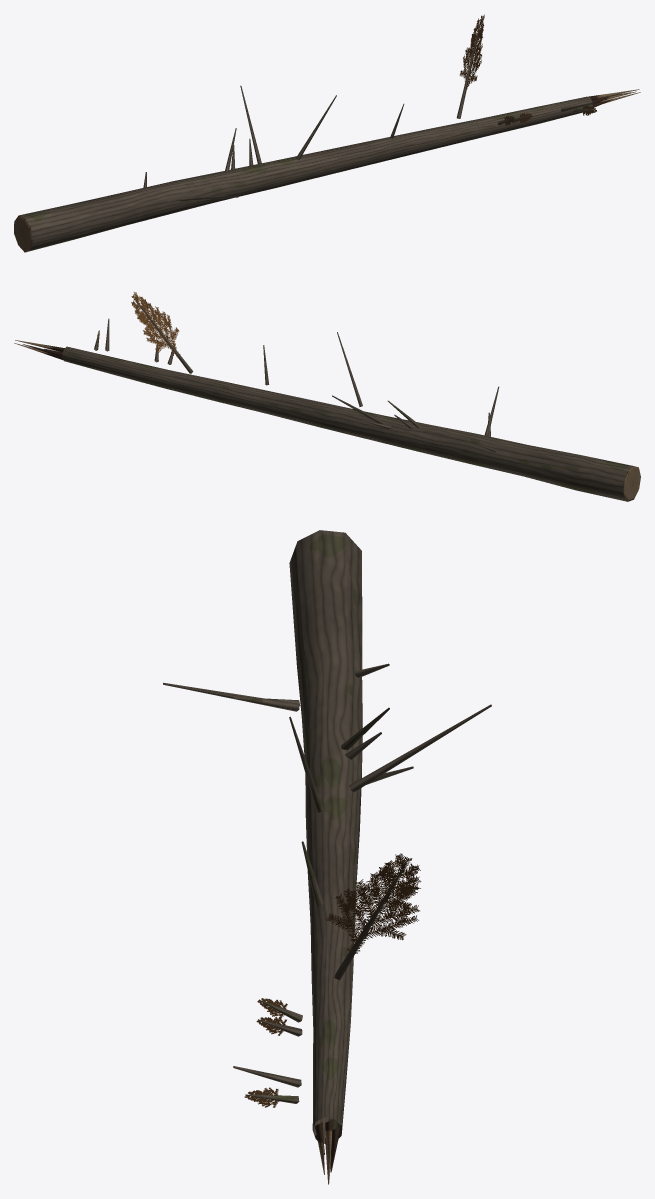
The model's file is S7U_FallenSpruce_A.fbx.
3 renders of one model, top to bottom at view 1: azimuth 30°, elevation 25°; view 2: azimuth 150°, elevation 25°; view 3: azimuth 270°, elevation 25°, orthographic. The views are drawn at different scales.
Visible parts, largest first — view 1: S7U_FallenSpruce_A; view 2: S7U_FallenSpruce_A; view 3: S7U_FallenSpruce_A.
Part boxes in pixels (box(x1,y1,x2,y2)): S7U_FallenSpruce_A: box(14, 14, 640, 252); S7U_FallenSpruce_A: box(14, 292, 640, 501); S7U_FallenSpruce_A: box(163, 530, 491, 1184).
Bounding box in the file's own units: 9.84 × 1.69 × 2.27.
